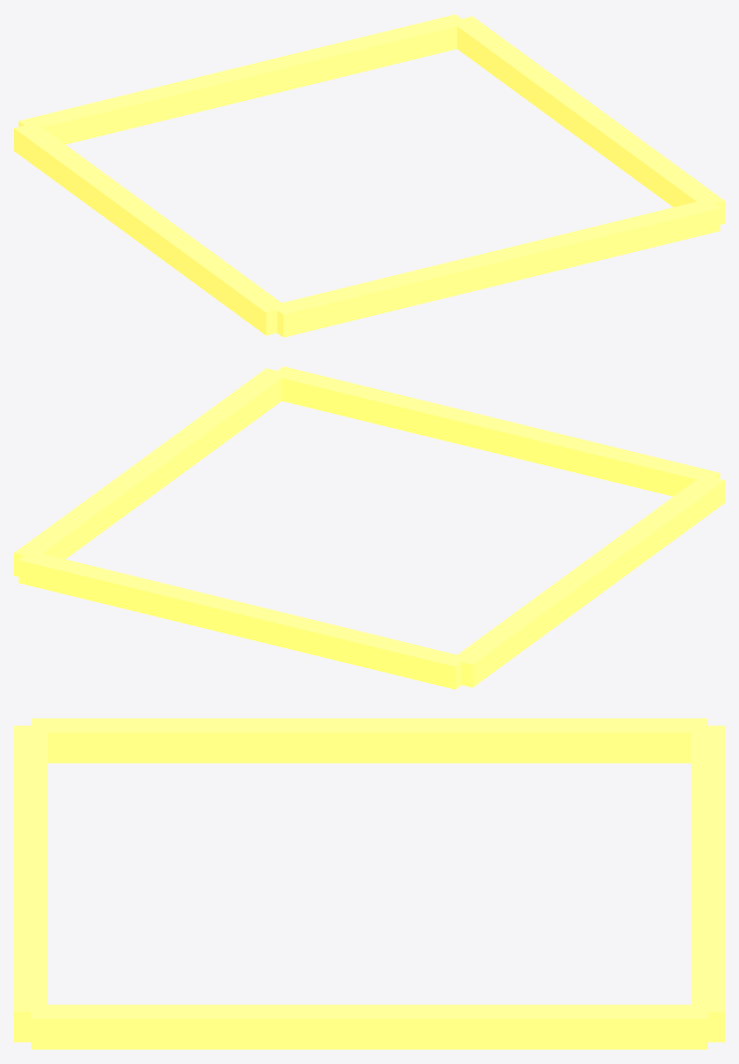
The model's file is trim_roof_rim.glb.
The picture shows the model from 3 angles, top to bottom: view 1: azimuth 30°, elevation 25°; view 2: azimuth 150°, elevation 25°; view 3: azimuth 270°, elevation 25°; orthographic projection. The views are drawn at different scales.
Parts seen in each view (by area): view 1: trim_roof_rim; view 2: trim_roof_rim; view 3: trim_roof_rim.
Part boxes in pixels (box(x1,y1,x2,y2)): trim_roof_rim: box(14, 14, 724, 337); trim_roof_rim: box(14, 366, 724, 689); trim_roof_rim: box(14, 718, 724, 1049).
Size of the model in its own units: 4.2 by 0.2 by 4.2.
